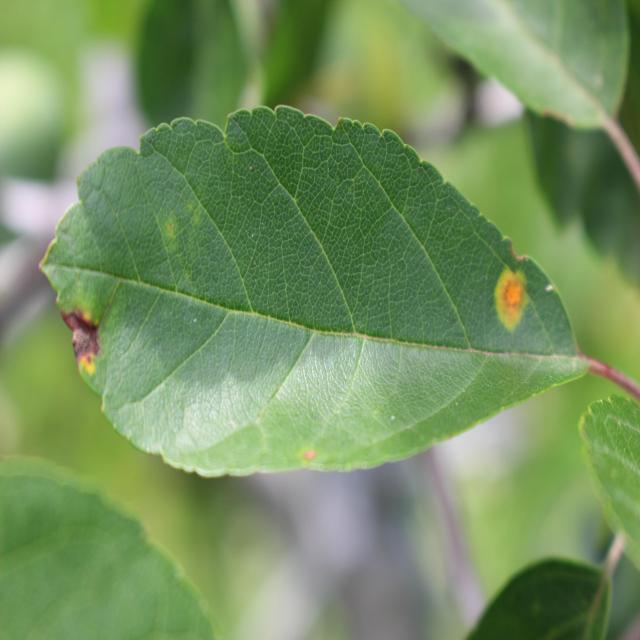rust: (35, 103, 587, 476)
